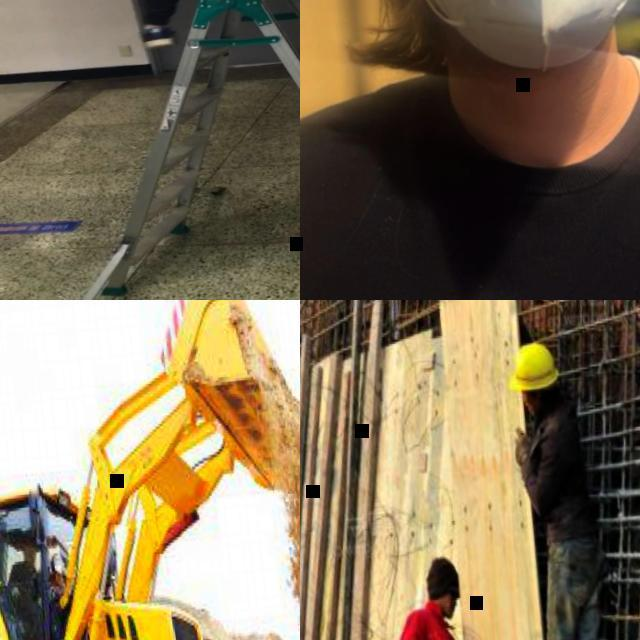Helmet: (506, 340, 567, 390)
Robbery: (303, 1, 640, 292), (494, 333, 629, 640), (392, 546, 489, 640), (10, 529, 50, 633)
